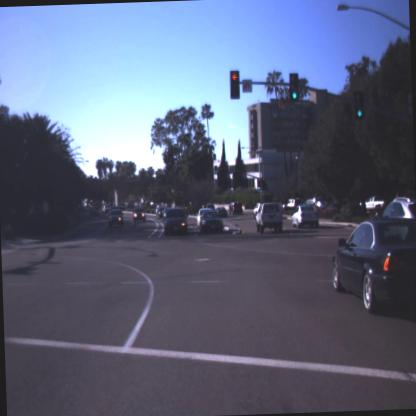trafficlight: (224, 66, 245, 106), (352, 86, 368, 127), (288, 71, 302, 106)
